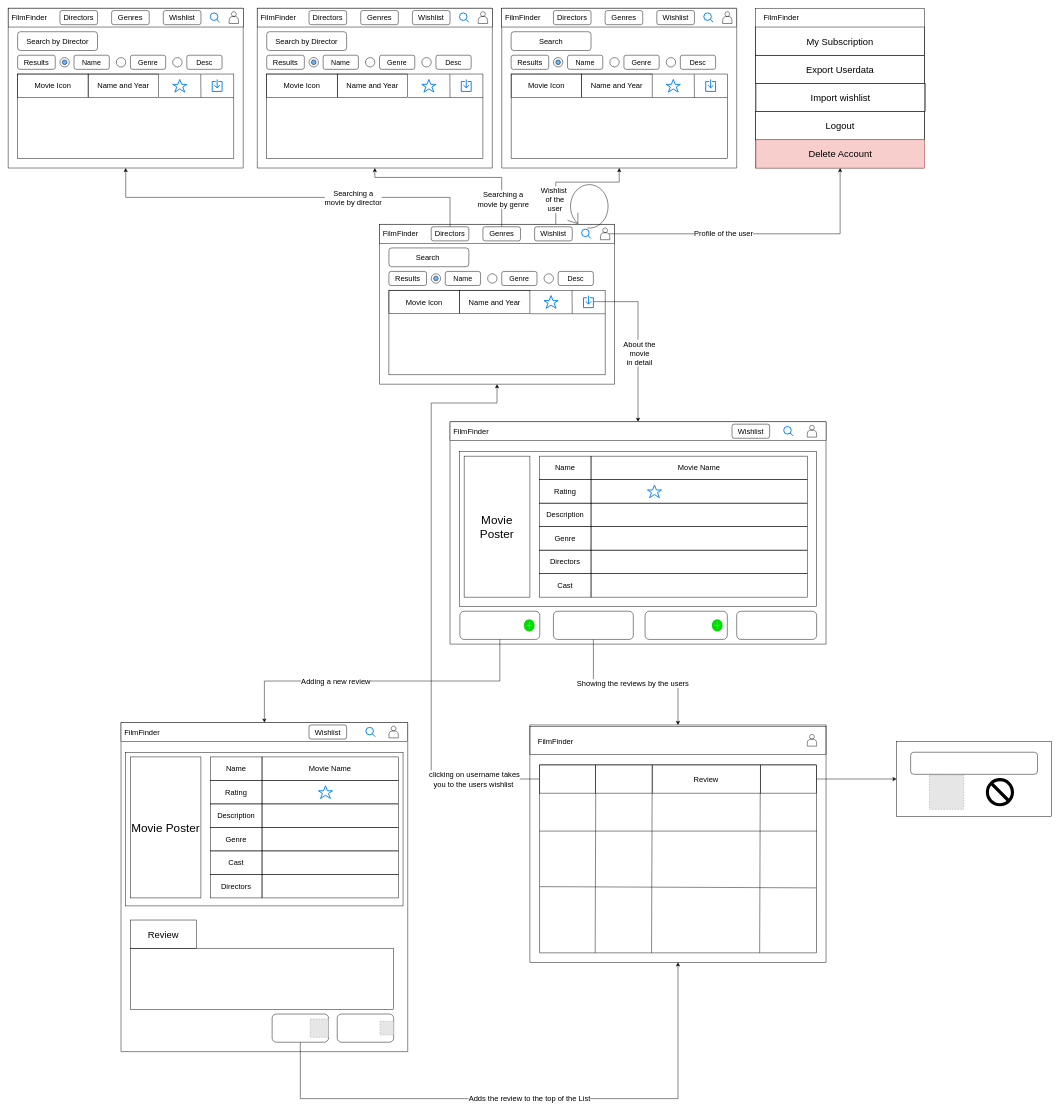
The diagram is 1060 pixels wide and 1111 high, and some of its shapes have lost their labels. Grey dashed boxes stand in for pictures. The box of each missing label's shape, as (x1, y1, x2, y2) in pixels:
Add Review: (459, 611, 540, 639)
Add to Wishlist: (645, 611, 727, 639)
Are you sure you want to block the user?: (910, 752, 1038, 774)
Block User: (760, 764, 817, 793)
Cancel: (337, 1014, 394, 1042)
Enter the review......: (130, 948, 394, 1009)
Find Similar Movies: (736, 611, 817, 639)
Rating by User: (595, 764, 652, 793)
Reviews by Users: (553, 611, 633, 639)
Save: (272, 1014, 329, 1042)
User Name: (539, 764, 596, 793)
